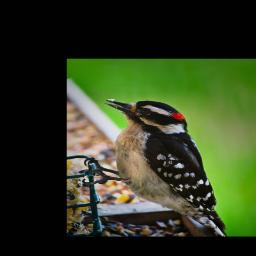Woodpecker: (79, 99, 227, 236)
